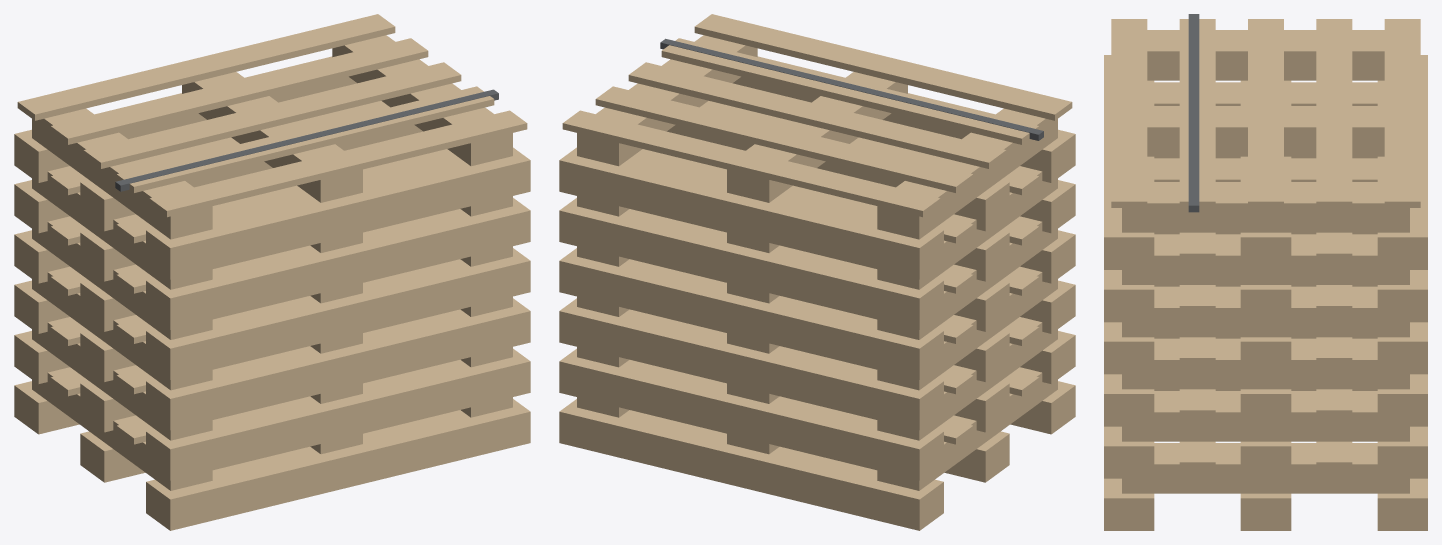
File: fish-market-and-trawler-quay-fish-market-and-trawler-q-cb41fa6c__37298.glb
3 renders of one model, left to right at view 1: azimuth 30°, elevation 25°; view 2: azimuth 150°, elevation 25°; view 3: azimuth 270°, elevation 25°, orthographic. The views are drawn at different scales.
Visible parts, largest first — view 1: fish-market-and-trawler-quay-pallet-stack; view 2: fish-market-and-trawler-quay-pallet-stack; view 3: fish-market-and-trawler-quay-pallet-stack.
Boxes of the visible parts, bbox=[...] form: fish-market-and-trawler-quay-pallet-stack: bbox=[14, 14, 530, 530]; fish-market-and-trawler-quay-pallet-stack: bbox=[559, 14, 1075, 530]; fish-market-and-trawler-quay-pallet-stack: bbox=[1104, 14, 1427, 530].
Bounding box in the file's own units: 1.26 × 1.01 × 0.9.
